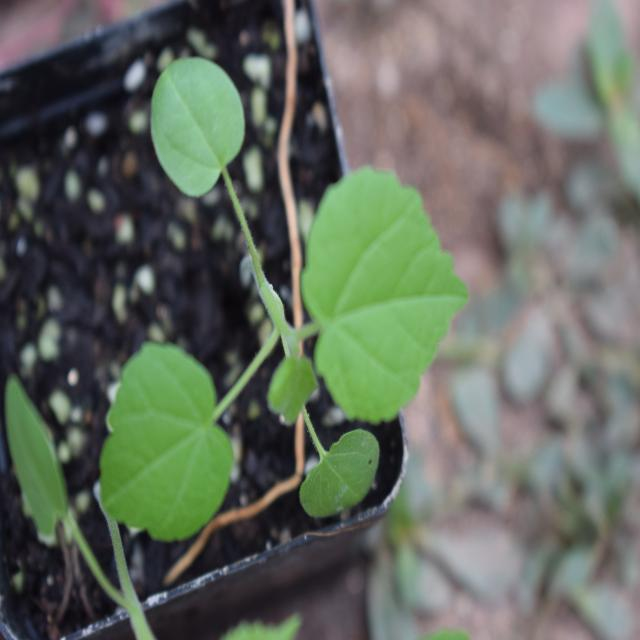abutilon theophrasti: (99, 70, 451, 558)
